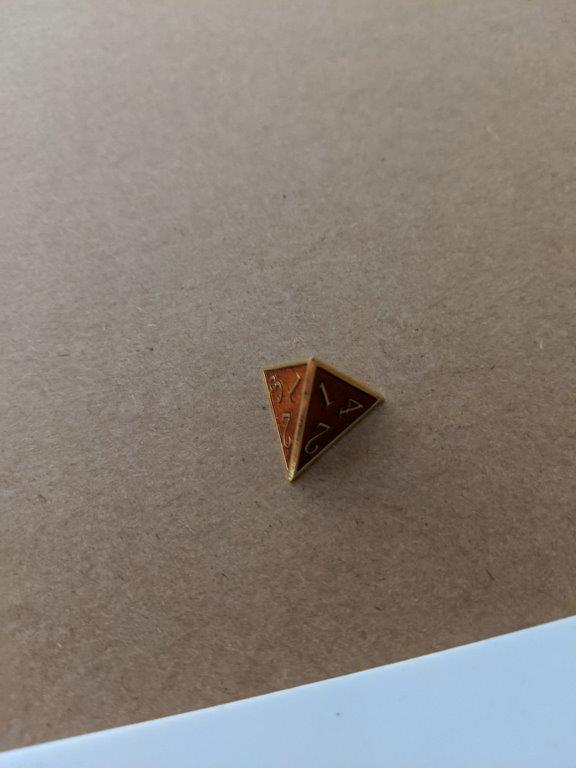d4-1: (253, 352, 386, 492)
